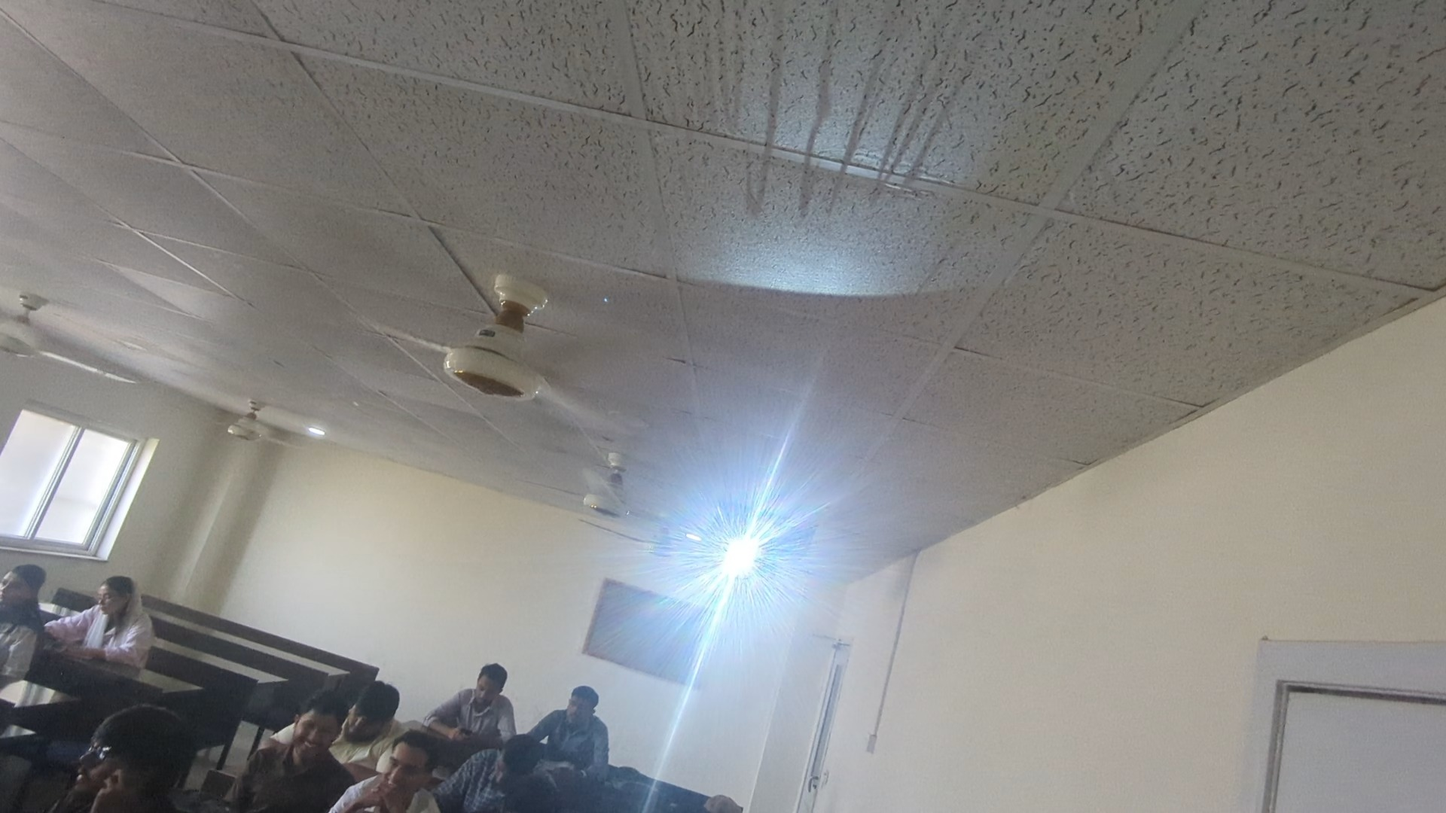look_forward: (67, 707, 192, 801), (535, 682, 625, 769), (268, 683, 334, 796), (5, 556, 45, 678)
read: (453, 725, 562, 813), (345, 734, 457, 813), (336, 673, 409, 748)
using_device: (53, 567, 167, 669), (423, 652, 511, 751)
